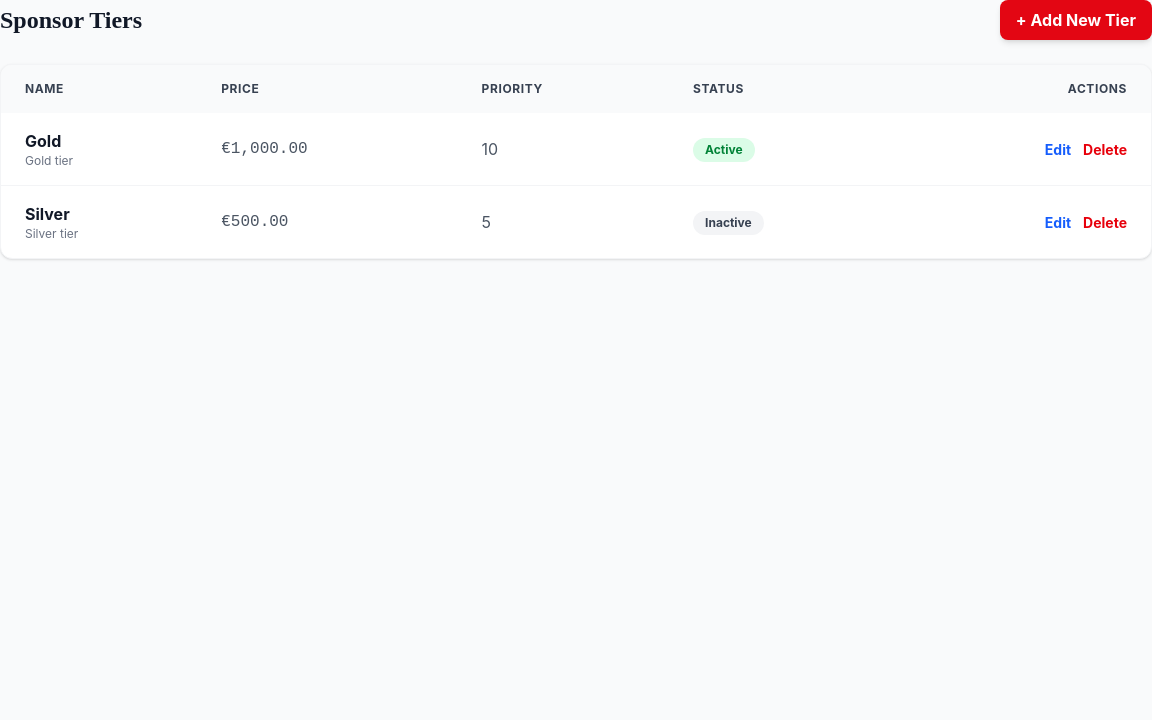
Scenario: SponsorTierManager UI › opens create modal
Click the button "+ Add New Tier": (1076, 20) [1000, 0, 1151, 40]
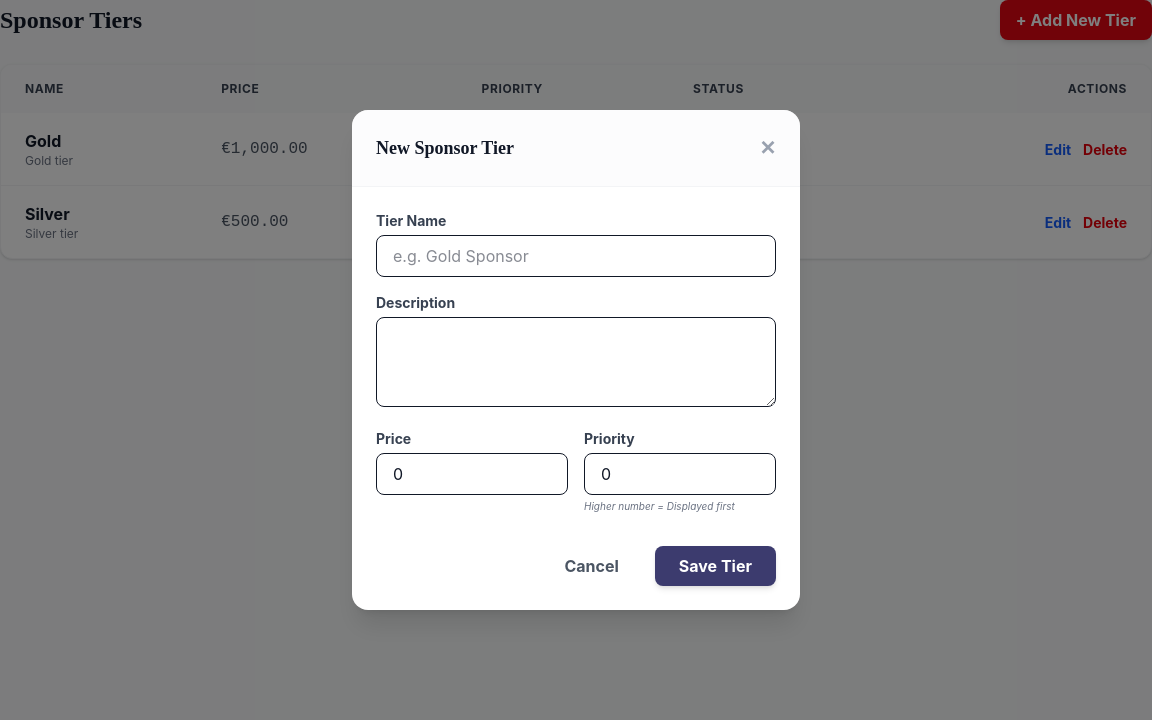
Expected: the heading "New Sponsor Tier" is shown, [376, 134, 514, 162]
